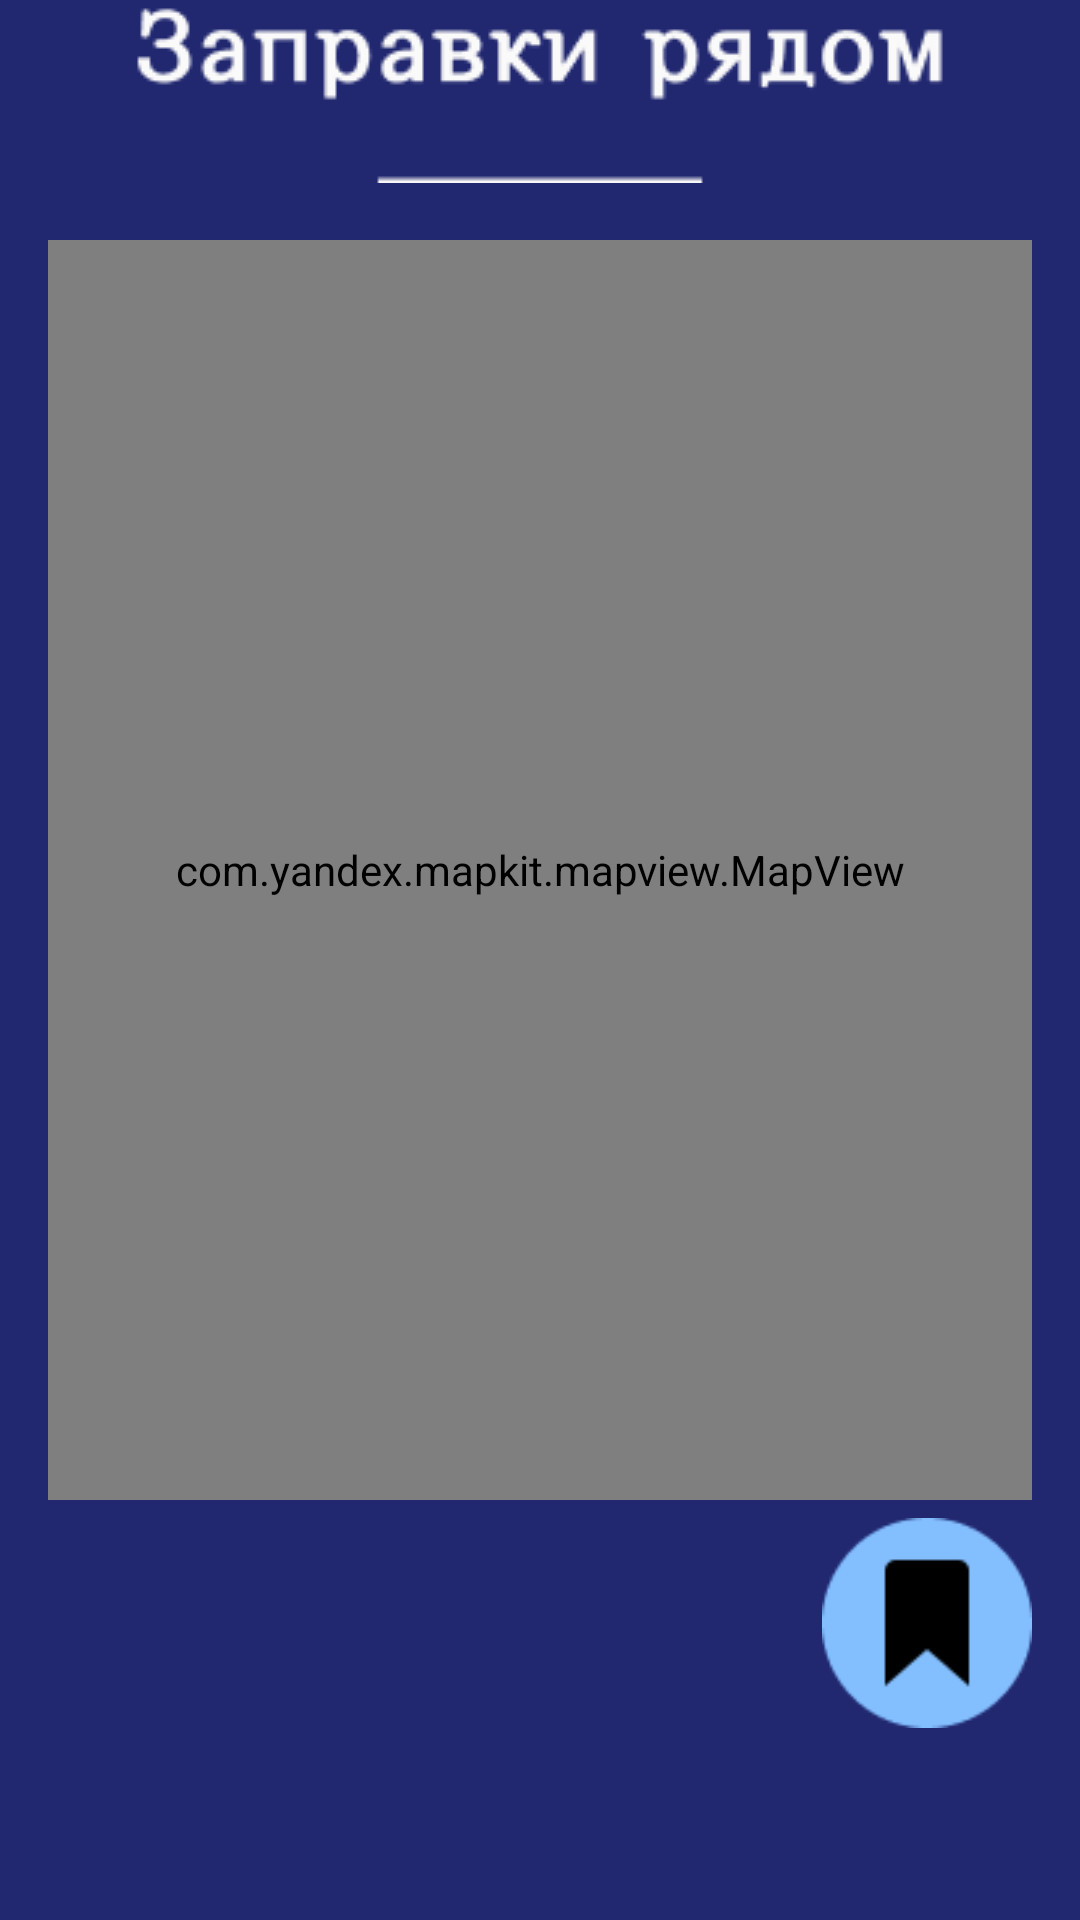

Named icons in this screenshot (1080px x 1920px) and their centers, [x,y]:
fav ref: [927,1623]
